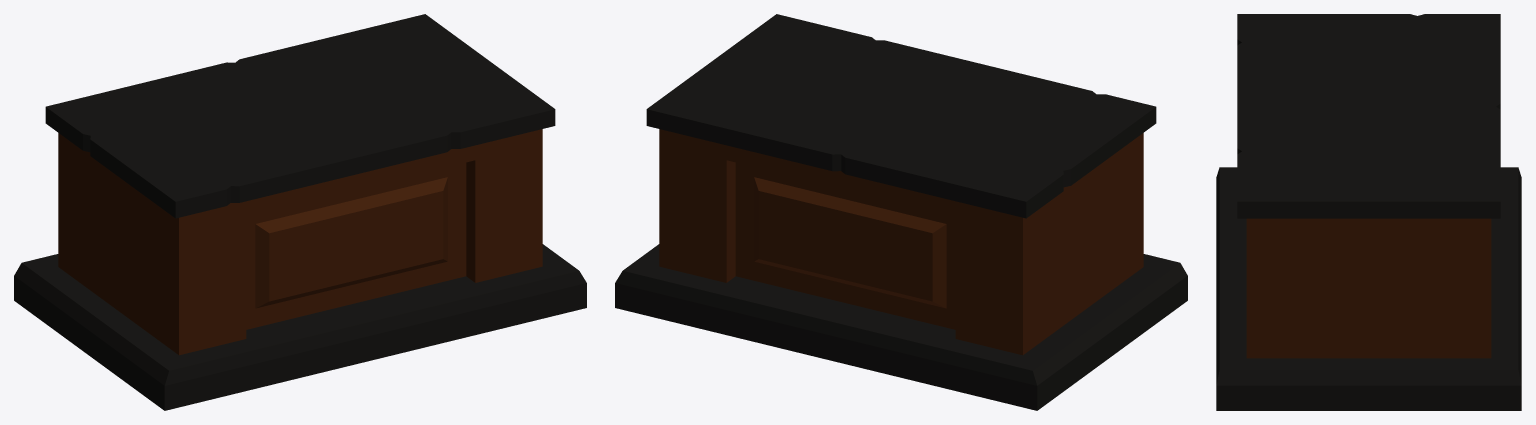
Rendered from wood_table.obj.
The picture shows the model from 3 angles, left to right: view 1: azimuth 30°, elevation 25°; view 2: azimuth 150°, elevation 25°; view 3: azimuth 270°, elevation 25°; orthographic projection.
Parts seen in each view (by area): view 1: altarWood.001; view 2: altarWood.001; view 3: altarWood.001.
Boxes of the visible parts, x1,y1,x2,y2 form: altarWood.001: (14,14,586,410); altarWood.001: (615,14,1187,410); altarWood.001: (1216,14,1521,410).
Size of the model in its own units: 2.2 by 0.9789 by 1.36.
